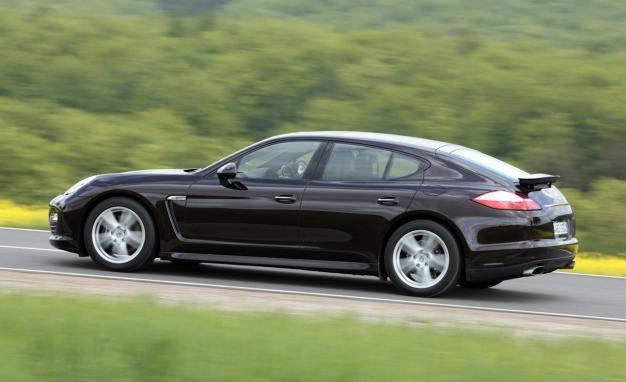Car: (26, 121, 600, 312)
